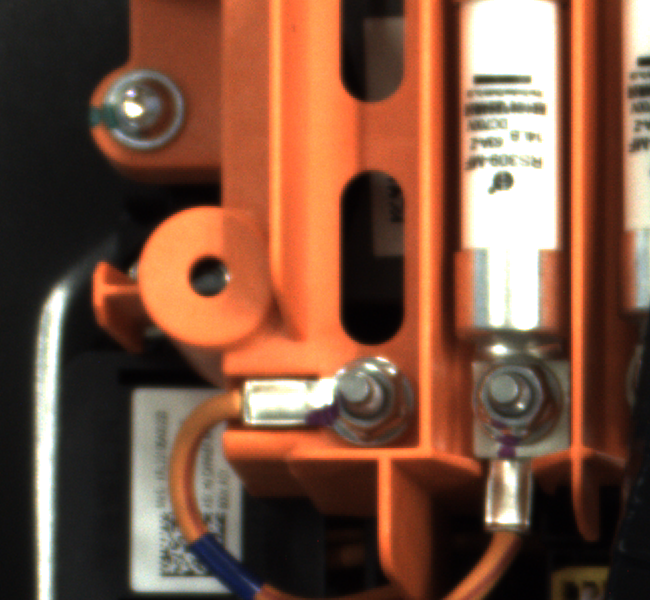screw_m: (87, 69, 188, 157)
screw_s: (466, 355, 566, 446), (322, 352, 412, 442)
